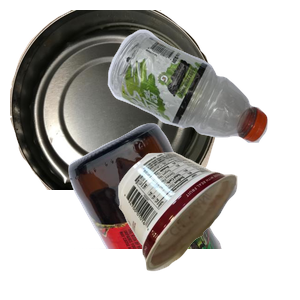glass: (66, 120, 300, 300)
metal: (10, 10, 221, 190)
plastic: (105, 27, 300, 162)
trash: (116, 149, 300, 300)
